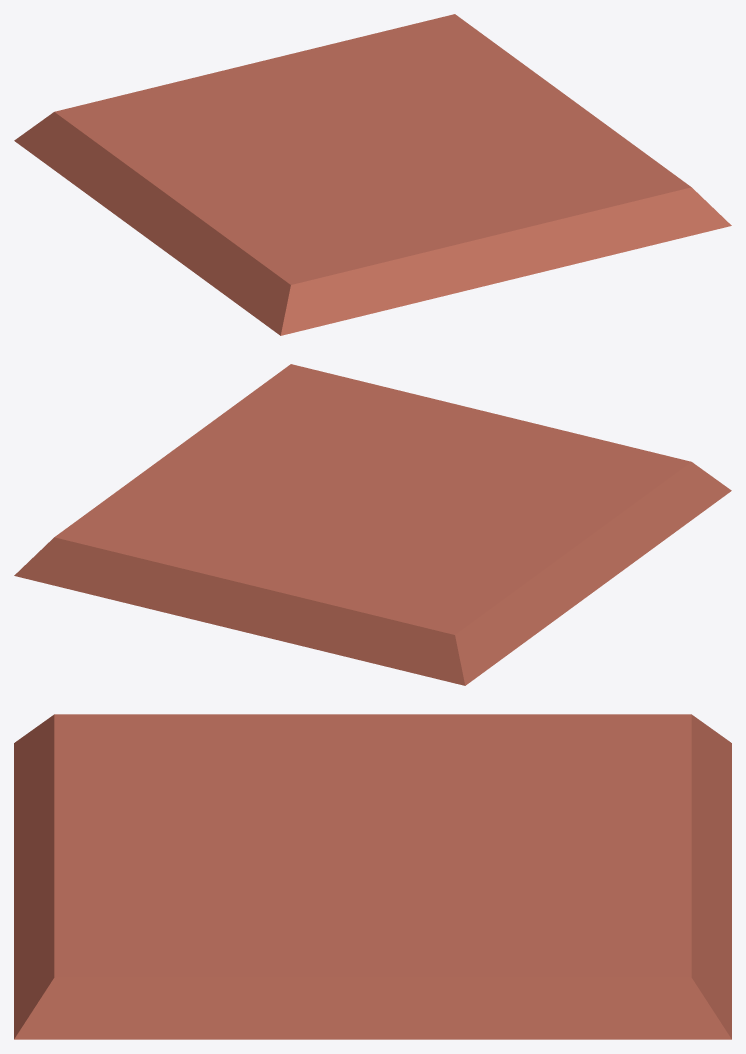
Rendered from giza-menkaure-b30.glb.
The picture shows the model from 3 angles, top to bottom: view 1: azimuth 30°, elevation 25°; view 2: azimuth 150°, elevation 25°; view 3: azimuth 270°, elevation 25°; orthographic projection. The views are drawn at different scales.
Bounding box in the file's own units: 102 × 7.31 × 105.
